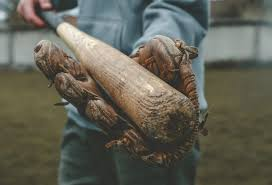baseball bat: (36, 7, 196, 147)
